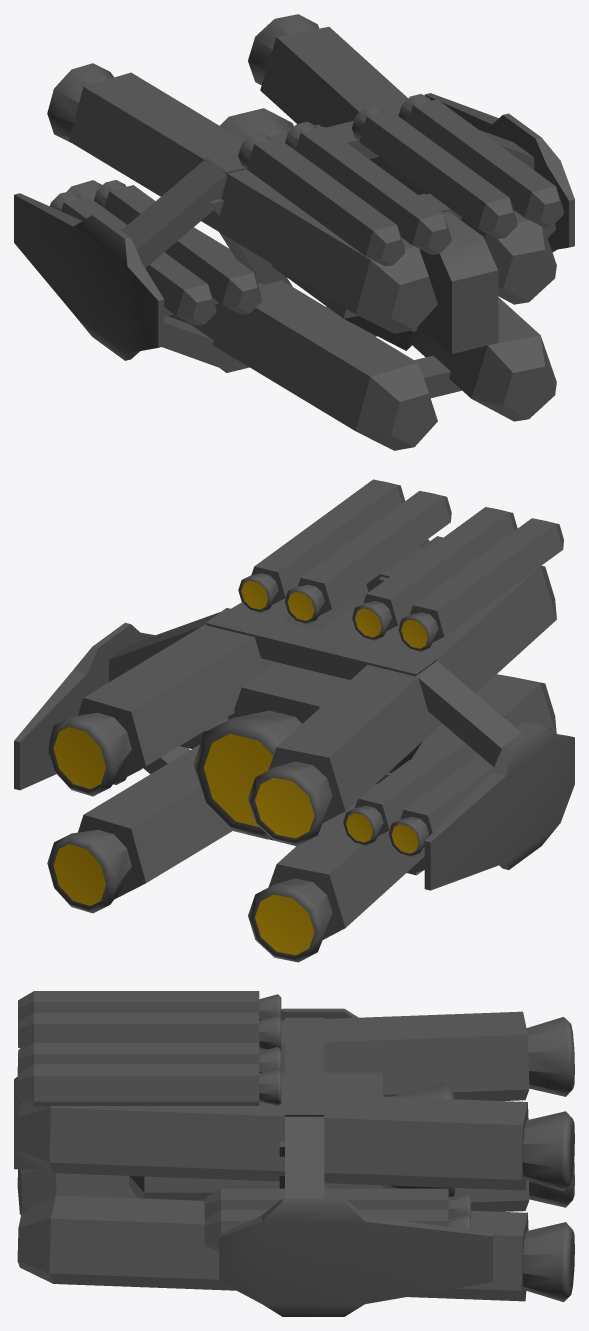
File: booster_0311.fbx
The picture shows the model from 3 angles, top to bottom: view 1: azimuth 30°, elevation 25°; view 2: azimuth 150°, elevation 25°; view 3: azimuth 270°, elevation 25°; orthographic projection. The views are drawn at different scales.
Parts seen in each view (by area): view 1: VOB12, VOB10, VOB11, VOB25, VOB6, VOB9, VOB, VOB29, VOB8, VOB7, VOB3, VOB31 (+7 smaller); view 2: VOB12, VOB11, VOB10, VOB, VOB25, VOB1, VOB9, VOB6, VOB7, VOB8, VOB26, VOB27 (+4 smaller); view 3: VOB11, VOB, VOB27, VOB12, VOB7, VOB8, VOB6, VOB9, VOB10, VOB1, VOB2, VOB26 (+4 smaller).
Boxes of the visible parts, x1=… form: VOB12: x1=47, y1=63, x2=437, y2=333; VOB10: x1=67, y1=180, x2=437, y2=450; VOB11: x1=248, y1=14, x2=556, y2=304; VOB25: x1=14, y1=193, x2=164, y2=360; VOB6: x1=238, y1=133, x2=405, y2=266; VOB9: x1=352, y1=105, x2=517, y2=238; VOB: x1=412, y1=297, x2=556, y2=421; VOB29: x1=416, y1=193, x2=498, y2=353; VOB8: x1=285, y1=121, x2=451, y2=254; VOB7: x1=398, y1=94, x2=563, y2=227; VOB3: x1=94, y1=180, x2=261, y2=314; VOB31: x1=121, y1=159, x2=227, y2=267; VOB12: x1=248, y1=565, x2=556, y2=845; VOB11: x1=47, y1=539, x2=429, y2=796; VOB10: x1=248, y1=674, x2=556, y2=962; VOB: x1=47, y1=744, x2=232, y2=913; VOB25: x1=424, y1=723, x2=574, y2=890; VOB1: x1=193, y1=601, x2=399, y2=839; VOB9: x1=284, y1=491, x2=451, y2=624; VOB6: x1=398, y1=518, x2=563, y2=651; VOB7: x1=238, y1=479, x2=404, y2=612; VOB8: x1=352, y1=507, x2=517, y2=640; VOB26: x1=206, y1=608, x2=437, y2=679; VOB27: x1=14, y1=622, x2=154, y2=790; VOB11: x1=17, y1=1093, x2=574, y2=1191; VOB: x1=17, y1=1195, x2=574, y2=1302; VOB27: x1=219, y1=1198, x2=492, y2=1316; VOB12: x1=17, y1=1011, x2=574, y2=1100; VOB7: x1=18, y1=1064, x2=281, y2=1106; VOB8: x1=18, y1=1012, x2=281, y2=1050; VOB6: x1=18, y1=991, x2=281, y2=1021; VOB9: x1=18, y1=1043, x2=281, y2=1073; VOB10: x1=17, y1=1162, x2=574, y2=1214; VOB1: x1=129, y1=1072, x2=454, y2=1200; VOB2: x1=204, y1=1188, x2=470, y2=1218; VOB26: x1=285, y1=1017, x2=324, y2=1116.
Size of the model in its own units: 5.21 by 2.71 by 6.17.
